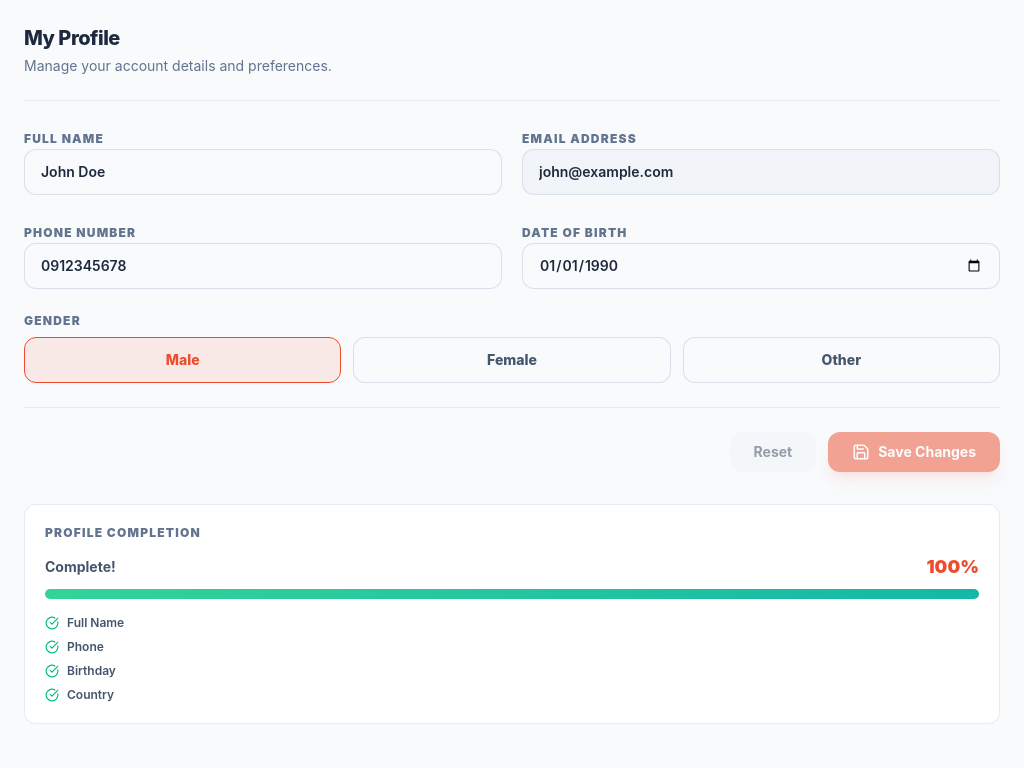
Test: ProfileTab › resets form on reset button click
The width and height of the screenshot is (1024, 768).
Expected: the field showing "John Doe" is shown, [24,149,502,195]
Replace the text in the field showing "0912345678" with "0999999999" at (263, 266), box [24,243,502,289]
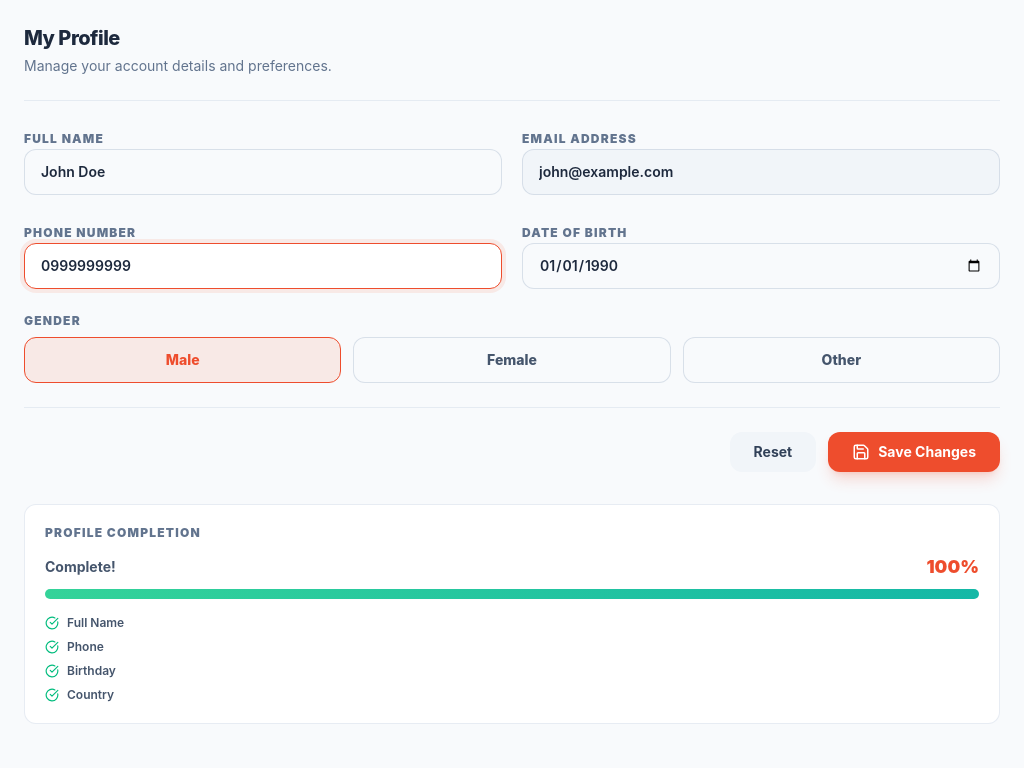
Click the button "Reset".
click(773, 452)  # box [730,432,816,472]
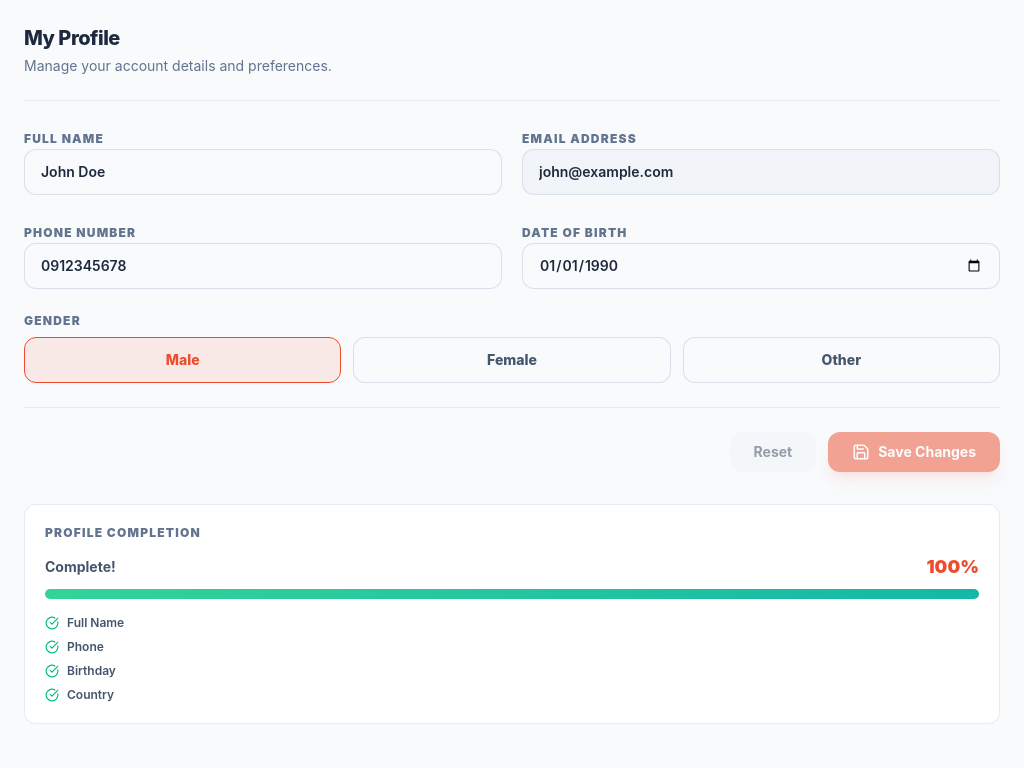
Now the field showing "0912345678" is shown, box [24,243,502,289]
